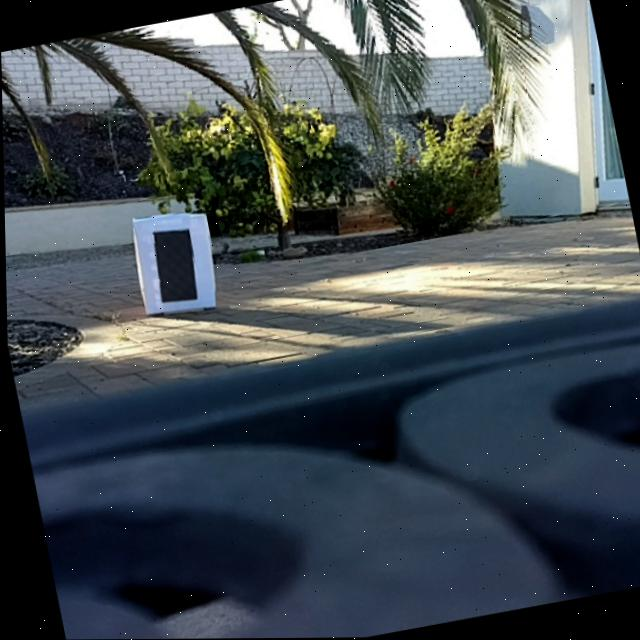led: (149, 227, 200, 303)
